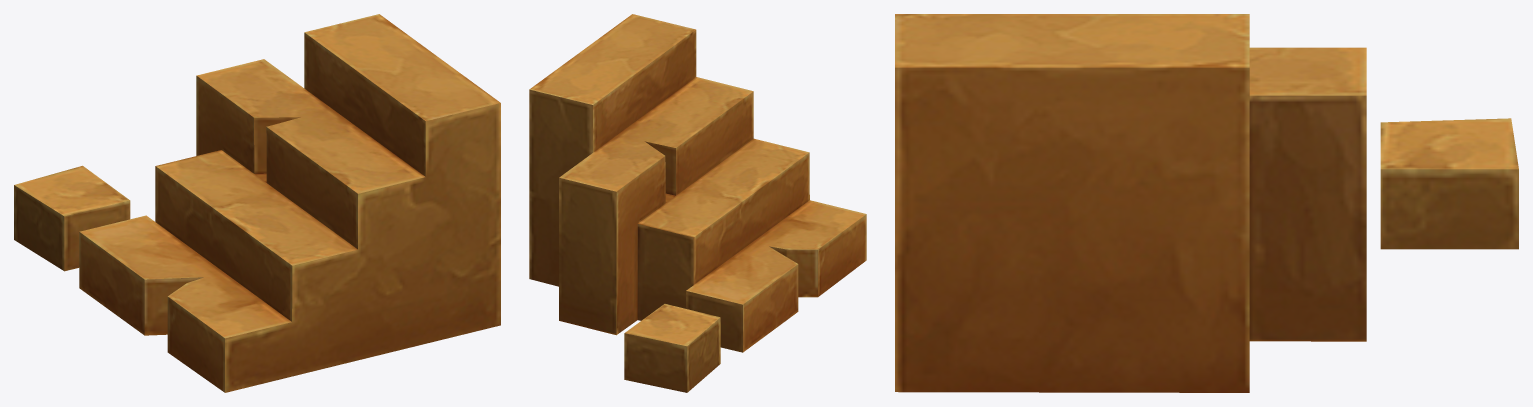
The model's file is Stage_ShaMo_TaiJie.FBX.
3 renders of one model, left to right at view 1: azimuth 30°, elevation 25°; view 2: azimuth 150°, elevation 25°; view 3: azimuth 270°, elevation 25°, orthographic. The views are drawn at different scales.
Parts seen in each view (by area): view 1: Stage_ShaMo_TaiJie; view 2: Stage_ShaMo_TaiJie; view 3: Stage_ShaMo_TaiJie.
Part boxes in pixels (x1,y1,x2,y2): Stage_ShaMo_TaiJie: (14, 14, 500, 392); Stage_ShaMo_TaiJie: (529, 14, 866, 392); Stage_ShaMo_TaiJie: (895, 14, 1518, 392).
Bounding box in the file's own units: 222 × 173 × 298.
